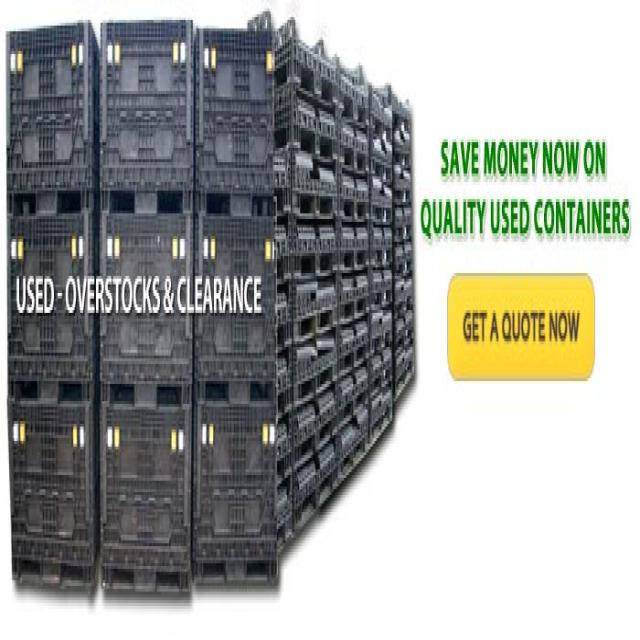basket: (91, 20, 198, 591), (5, 20, 99, 587), (193, 14, 278, 580), (274, 17, 339, 542), (338, 63, 369, 476), (370, 85, 393, 442), (394, 91, 416, 400)
